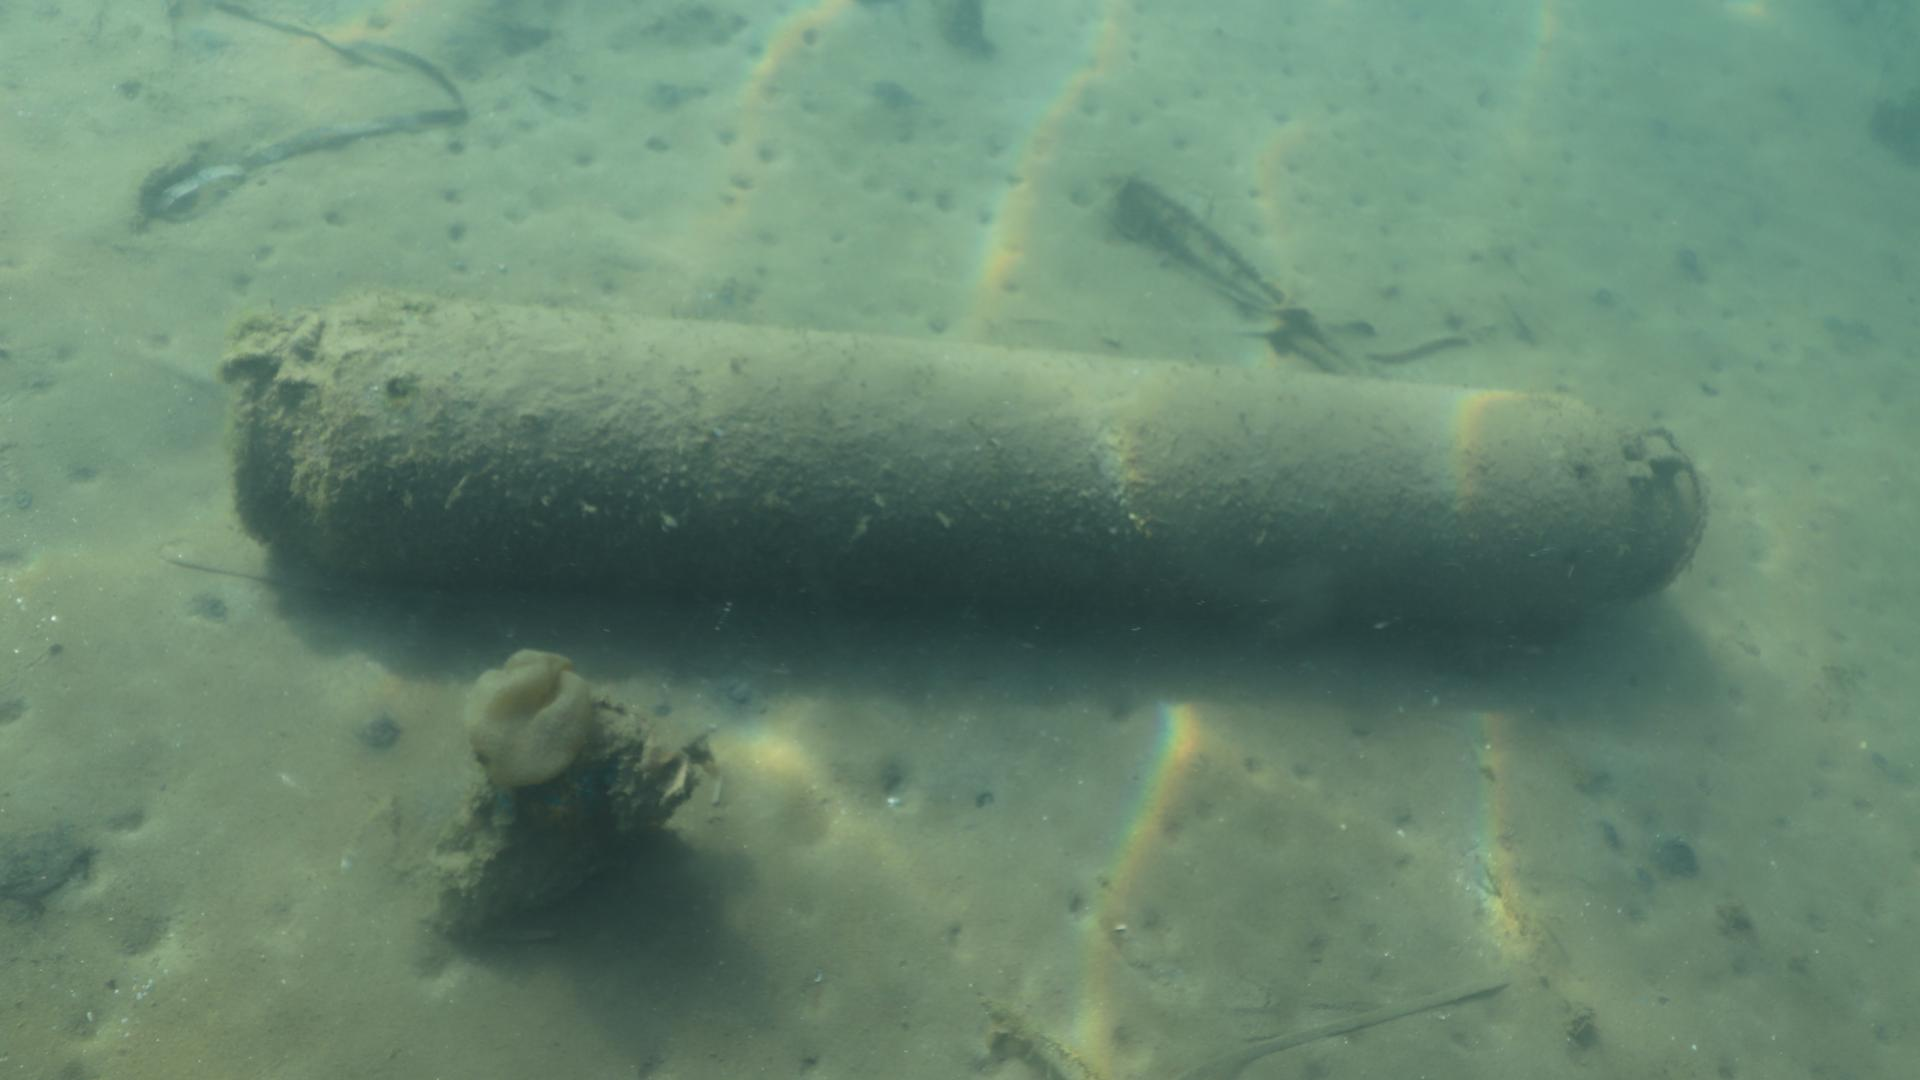eel fish trap: (233, 286, 1706, 633)
